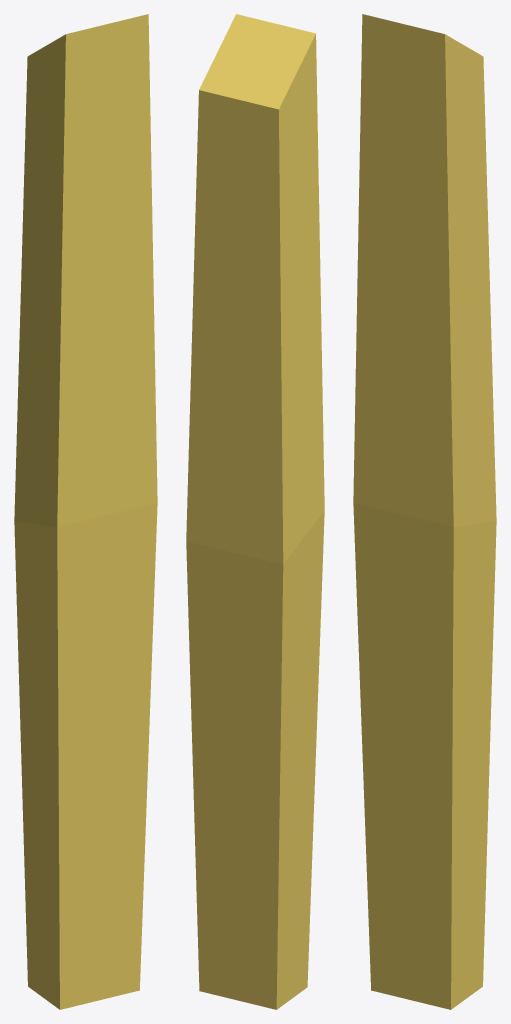
Rendered from f_normal_fry.fbx.
3 views of the same model, side by side, from view 1: azimuth 30°, elevation 25°; view 2: azimuth 150°, elevation 25°; view 3: azimuth 330°, elevation 25° (orthographic). The views are drawn at different scales.
Parts seen in each view (by area): view 1: f_normal_fry; view 2: f_normal_fry; view 3: f_normal_fry.
Boxes of the visible parts, left/top/right/bottom form: f_normal_fry: left=14, top=14, right=157, bottom=1009; f_normal_fry: left=186, top=14, right=324, bottom=1009; f_normal_fry: left=353, top=14, right=496, bottom=1009.
Bounding box in the file's own units: 1.46 × 13.64 × 1.08.
